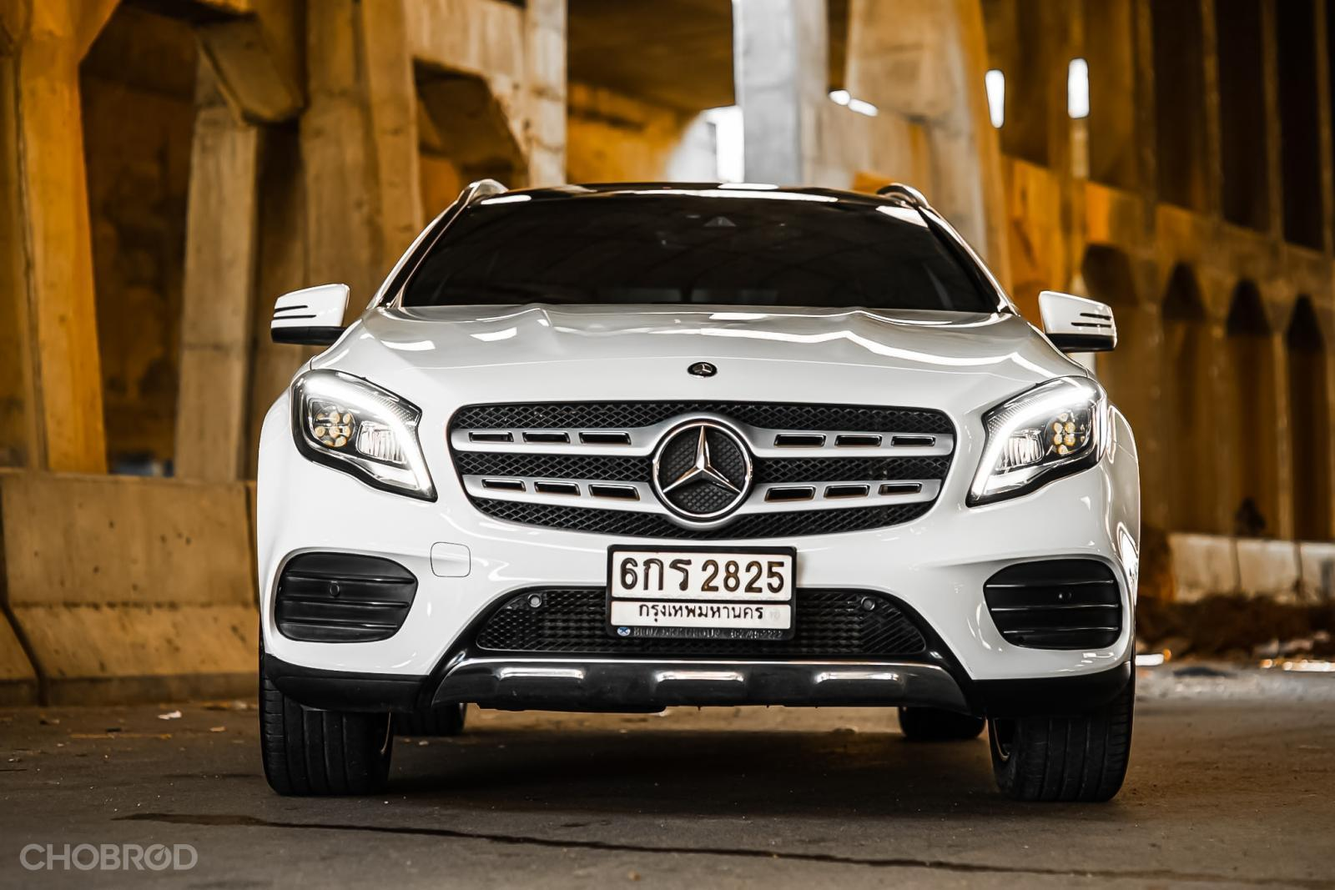license-plate: (608, 542, 798, 632)
